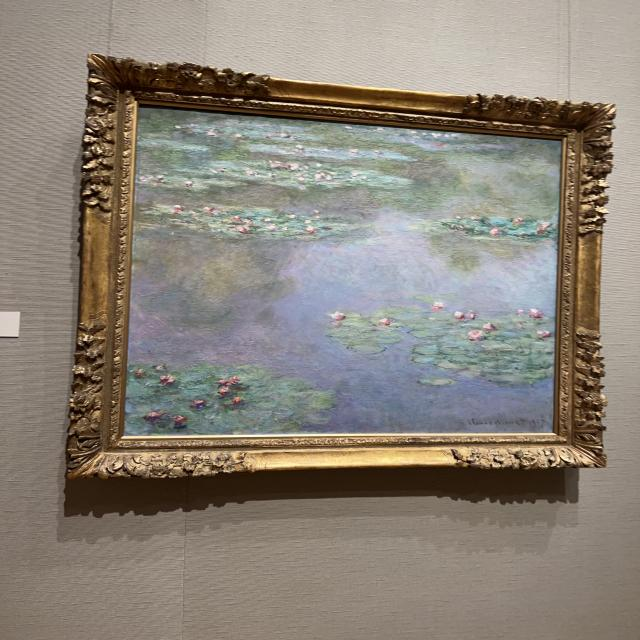lilies: (128, 112, 560, 434)
